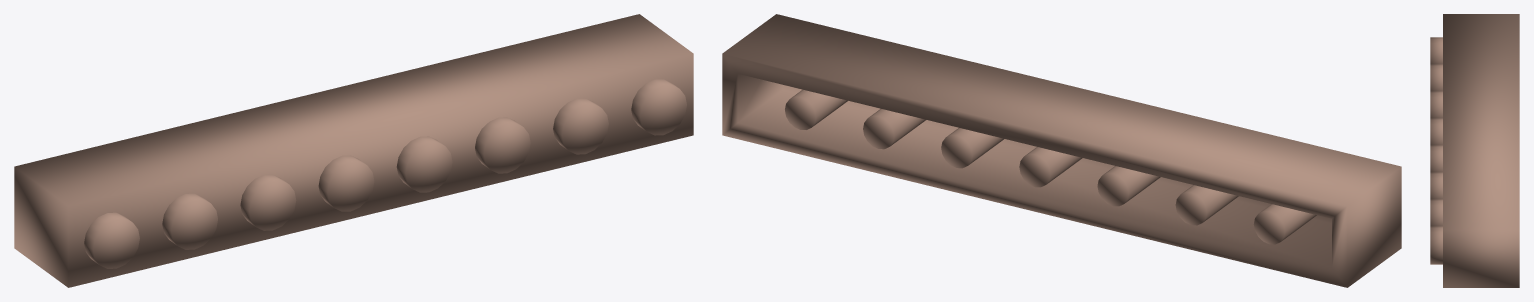
3 views of the same model, side by side, from view 1: azimuth 30°, elevation 25°; view 2: azimuth 150°, elevation 25°; view 3: azimuth 270°, elevation 25° (orthographic). The views are drawn at different scales.
Bounding box in the file's own units: 64 × 8 × 11.2.
